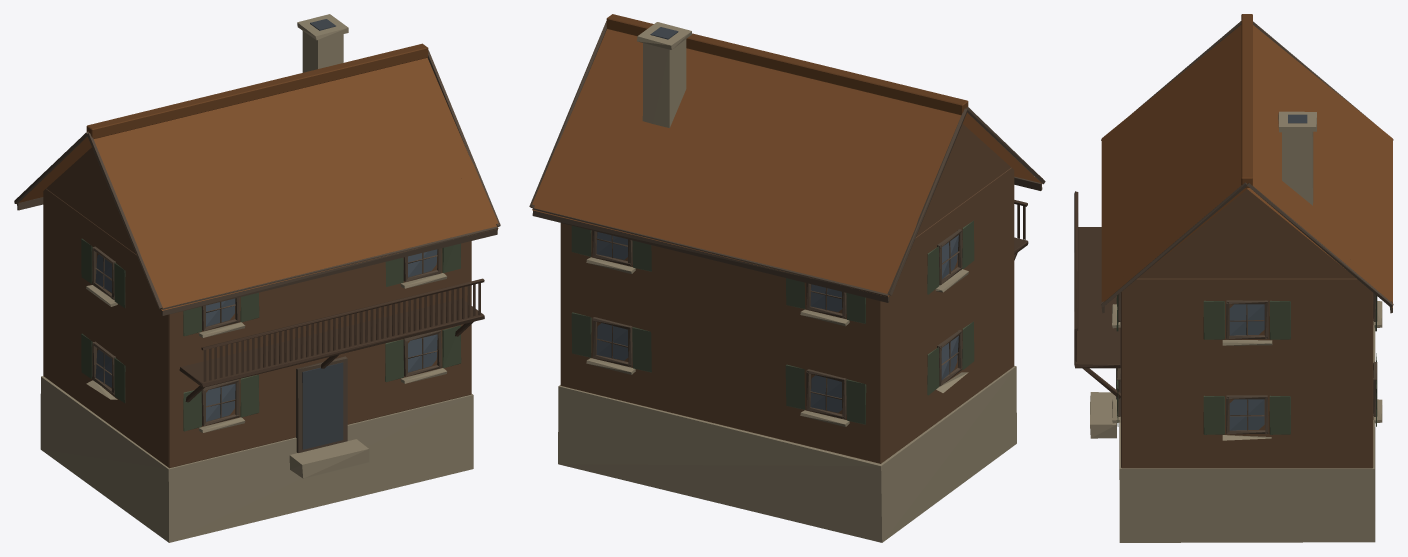
File: house-stone-balcony-lod1.glb
3 renders of one model, left to right at view 1: azimuth 30°, elevation 25°; view 2: azimuth 150°, elevation 25°; view 3: azimuth 270°, elevation 25°, orthographic. The views are drawn at different scales.
Size of the model in its own units: 10.14 by 11.2 by 8.22.
